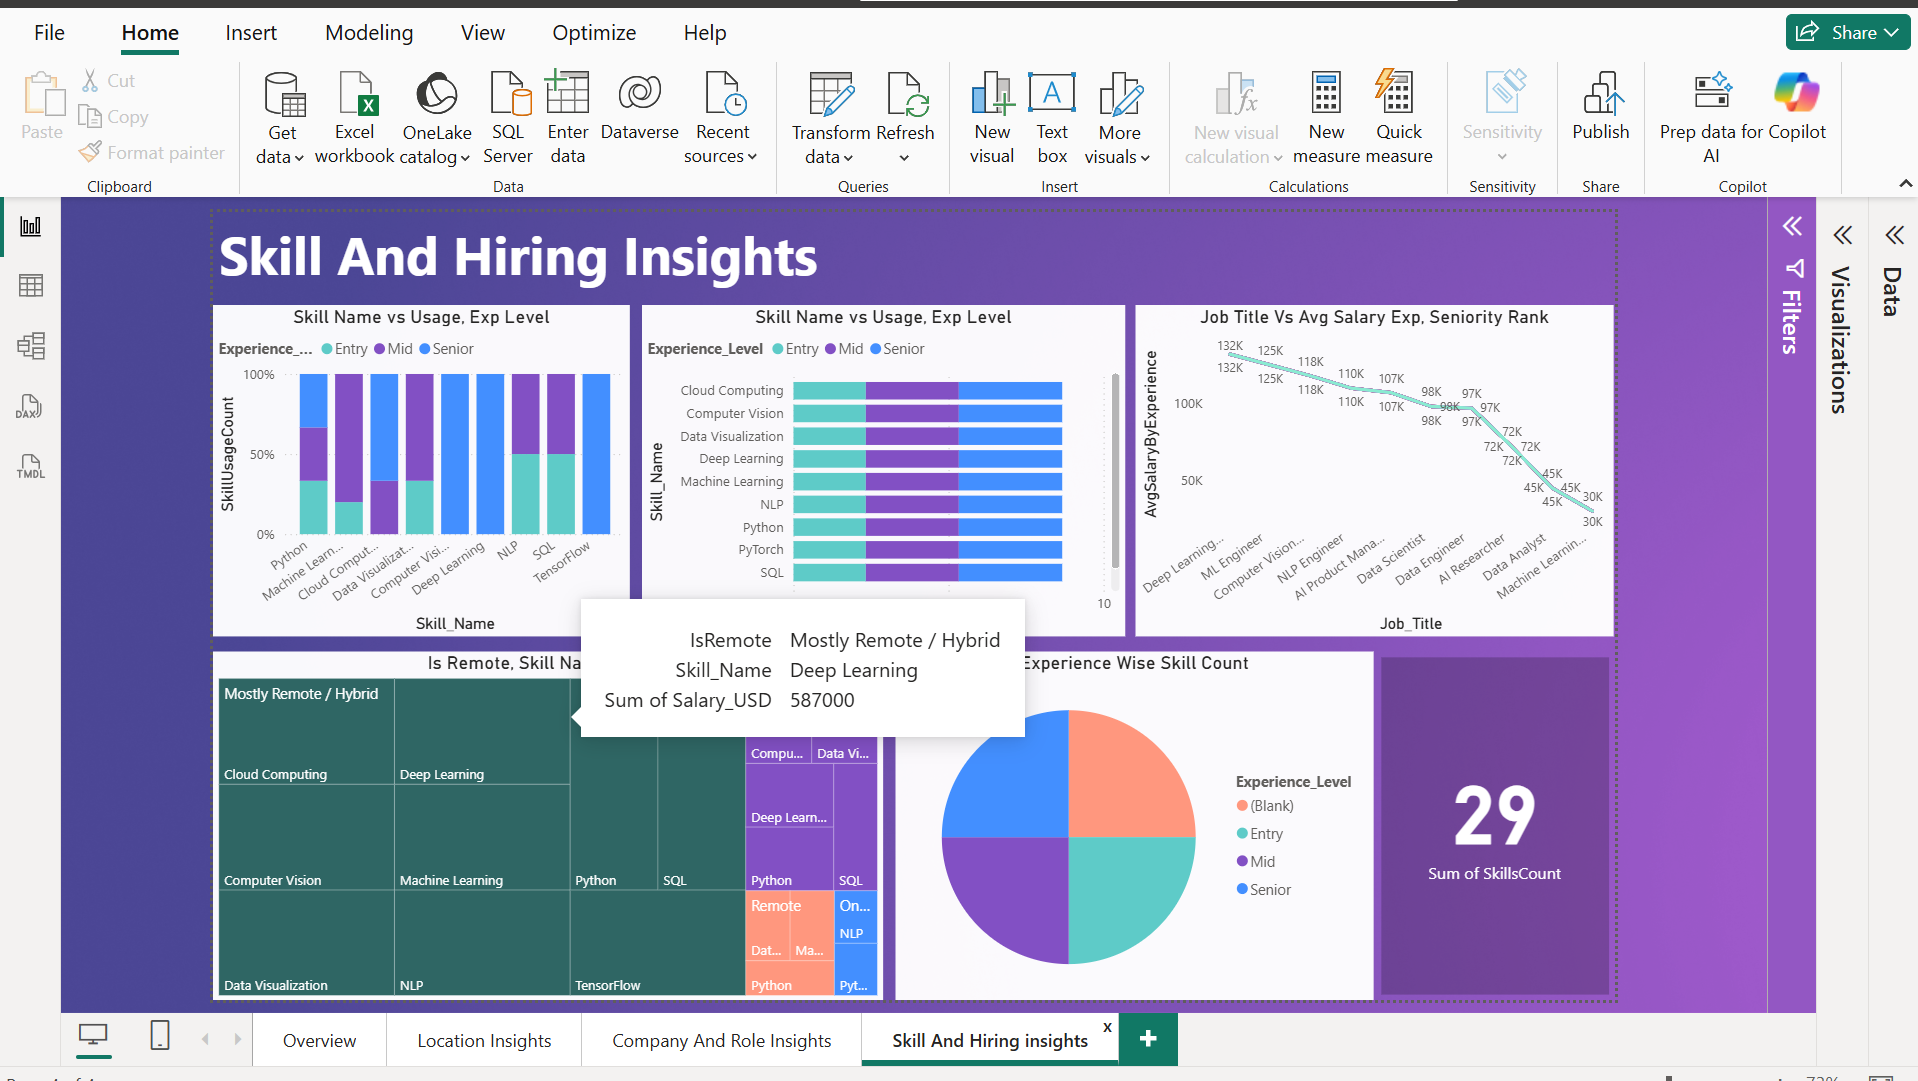

This screenshot's page, from the dashboard's own definition file:
{"tool":"powerbi","page":{"name":"Skill And Hiring insights","canvas":[1280,720],"ordinal":3},"visuals":[{"type":"hundredPercentStackedColumnChart","title":"Skill Name vs Usage, Exp Level","fields":{"Category":["Dim_Skills.Skill_Name"],"Series":["Fact_Jobs.Experience_Level"],"Y":["Dim_Skills.SkillUsageCount"]},"box":[0,85.3,380.9,302.9],"z":0},{"type":"textbox","box":[0,0,570.6,85.3],"z":1000},{"type":"treemap","title":"Is Remote, Skill Name, Salary ","fields":{"Group":["Fact_Jobs.IsRemote"],"Details":["Dim_Skills.Skill_Name"],"Values":["Sum(Fact_Jobs.Salary_USD)"]},"box":[0,401.5,611.8,319.1],"z":2000},{"type":"cardVisual","title":"Total Jobs","fields":{"Data":["Sum(Fact_Jobs.SkillsCount)"]},"box":[1061.7,401.7,218.3,318.3],"z":3000},{"type":"lineChart","title":"Job Title Vs Avg Salary Exp, Seniority Rank","fields":{"Series":["Dim_Skills.Skill_Name"],"Category":["Fact_Jobs.Job_Title"],"Y":["Fact_Jobs.AvgSalaryByExperience"]},"box":[842.6,85.3,436.8,302.9],"z":4000},{"type":"barChart","title":"Skill Name vs Usage, Exp Level","fields":{"Category":["Dim_Skills.Skill_Name"],"Series":["Fact_Jobs.Experience_Level"],"Y":["Fact_Job_Skills.AvgSkillPerJob"]},"box":[391.2,85.3,441.2,302.9],"z":4001},{"type":"pieChart","title":"Experience Wise  Skill Count","fields":{"Y":["CountNonNull(Dim_Skills.Skill_Name)"],"Category":["Fact_Jobs.Experience_Level"]},"box":[623.5,401.5,436.8,319.1],"z":4002}]}

Visuals, with their boxes on the page's 1280x720 design canvas (x1, y1, x2, y2). These are canvas units, not pixel positions in the 1918x1081 screenshot, which may show the page scaled, cropped or inside an application window:
"Skill Name vs Usage, Exp Level" hundredPercentStackedColumnChart: select_region(0, 85, 381, 388)
textbox: select_region(0, 0, 571, 85)
"Is Remote, Skill Name, Salary " treemap: select_region(0, 402, 612, 721)
"Total Jobs" cardVisual: select_region(1062, 402, 1280, 720)
"Job Title Vs Avg Salary Exp, Seniority Rank" lineChart: select_region(843, 85, 1279, 388)
"Skill Name vs Usage, Exp Level" barChart: select_region(391, 85, 832, 388)
"Experience Wise  Skill Count" pieChart: select_region(624, 402, 1060, 721)
